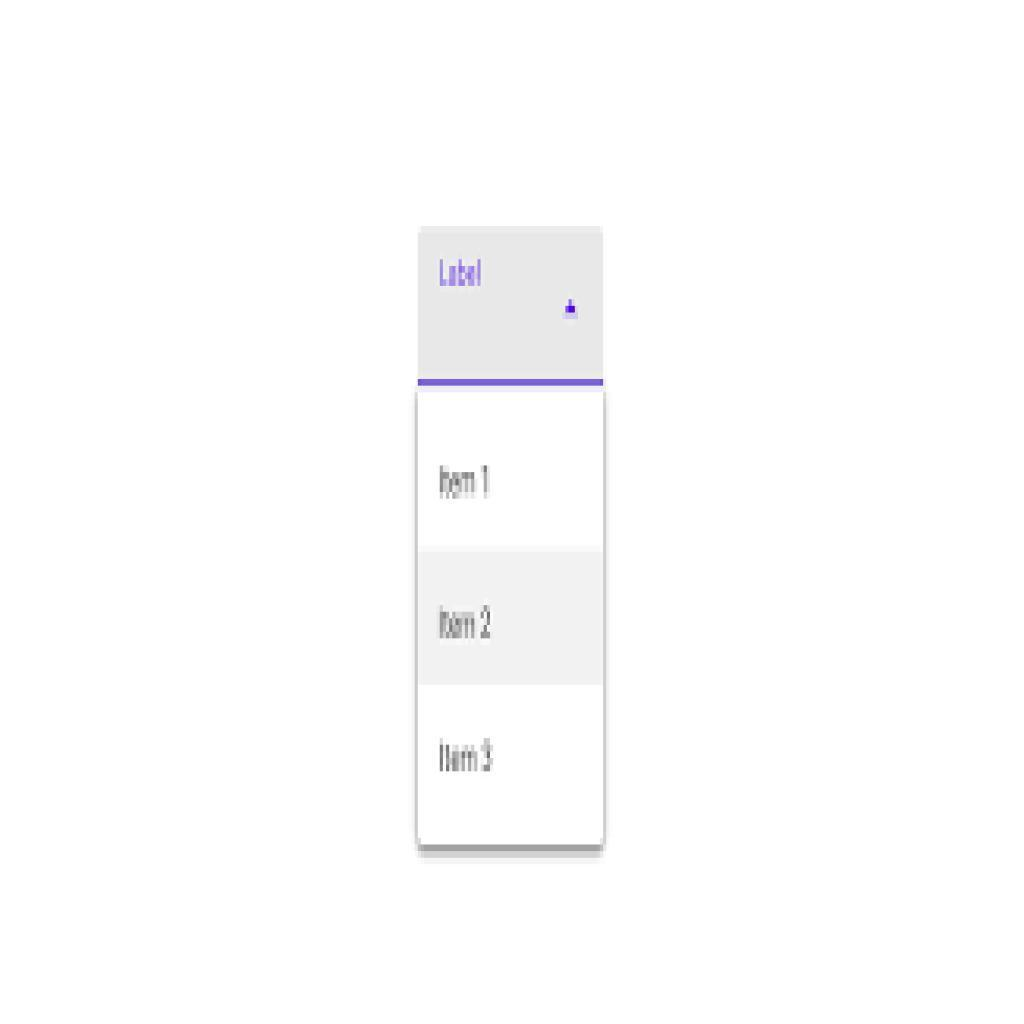dropdown: (420, 233, 608, 384)
